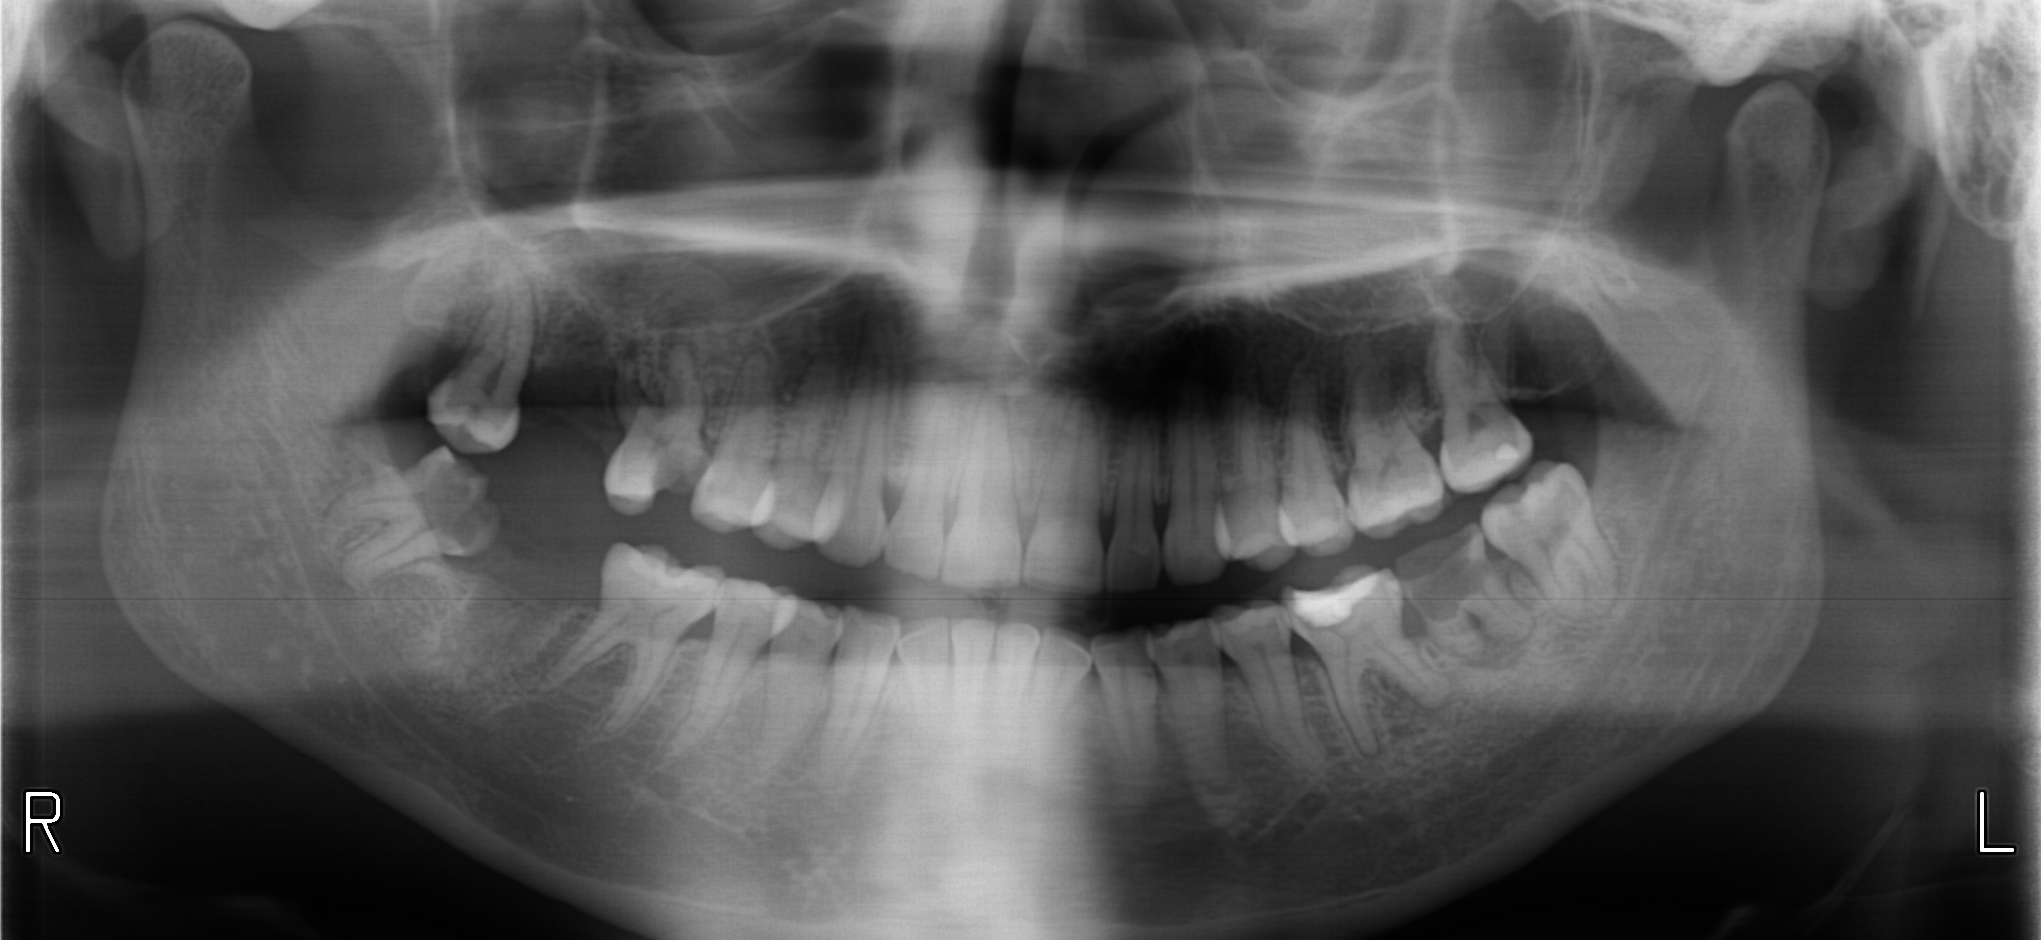cavity: (1399, 534, 1485, 615)
